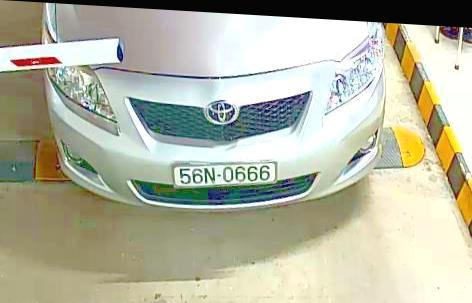License_Plate: (168, 157, 280, 195)
